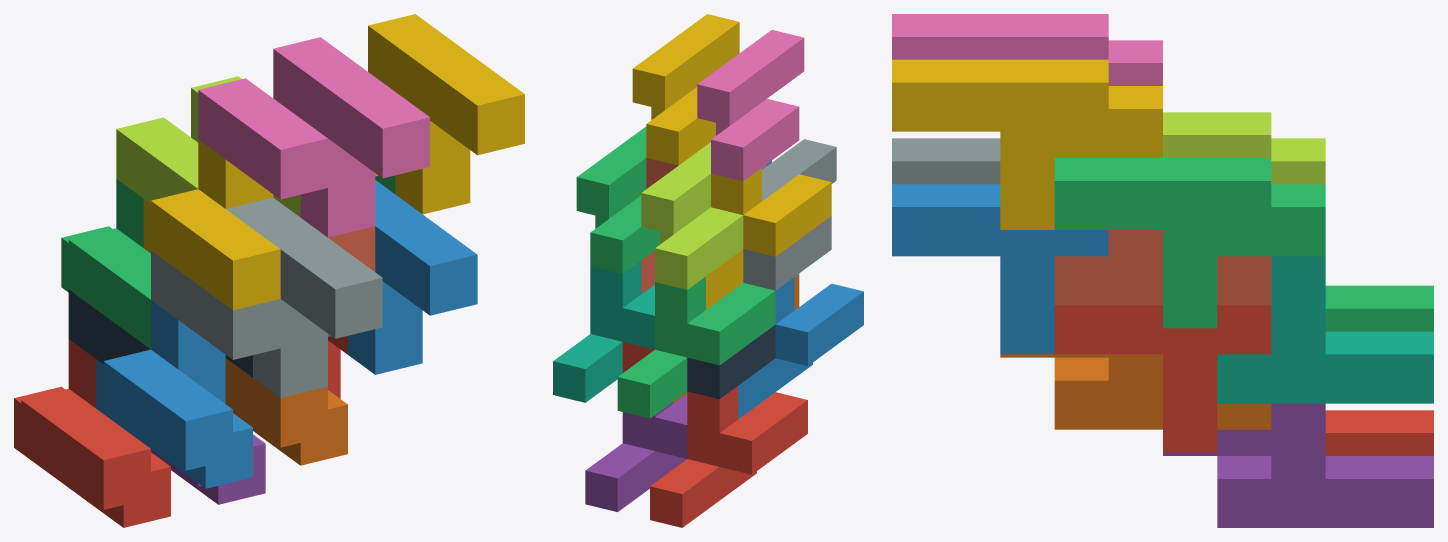
Rendered from tiling.obj.
3 renders of one model, left to right at view 1: azimuth 30°, elevation 25°; view 2: azimuth 150°, elevation 25°; view 3: azimuth 270°, elevation 25°, orthographic. The views are drawn at different scales.
Visible parts, largest first — view 1: copy_2_domain_4, copy_2_domain_2, copy_2_domain_8, copy_1_domain_2, copy_1_domain_1, copy_1_domain_4, copy_2_domain_6, copy_1_domain_3, copy_1_domain_6, copy_2_domain_3, copy_2_domain_1, copy_1_domain_5 (+2 smaller); view 2: copy_1_domain_1, copy_1_domain_3, copy_2_domain_4, copy_2_domain_8, copy_2_domain_3, copy_1_domain_7, copy_1_domain_4, copy_2_domain_7, copy_1_domain_2, copy_1_domain_5, copy_2_domain_2, copy_2_domain_1 (+2 smaller); view 3: copy_2_domain_7, copy_2_domain_8, copy_1_domain_5, copy_1_domain_7, copy_2_domain_6, copy_2_domain_5, copy_2_domain_4, copy_1_domain_6, copy_1_domain_8, copy_2_domain_3, copy_1_domain_3, copy_2_domain_2 (+1 smaller).
Part boxes in pixels (left/top/right/bottom): copy_2_domain_4: left=198, top=37, right=429, bottom=237; copy_2_domain_2: left=151, top=197, right=382, bottom=397; copy_2_domain_8: left=368, top=14, right=524, bottom=214; copy_1_domain_2: left=96, top=300, right=252, bottom=488; copy_1_domain_1: left=14, top=339, right=170, bottom=527; copy_1_domain_4: left=143, top=139, right=280, bottom=310; copy_2_domain_6: left=328, top=180, right=477, bottom=374; copy_1_domain_3: left=61, top=179, right=150, bottom=349; copy_1_domain_6: left=225, top=358, right=347, bottom=465; copy_2_domain_3: left=116, top=76, right=300, bottom=217; copy_2_domain_1: left=68, top=289, right=252, bottom=377; copy_1_domain_5: left=151, top=434, right=265, bottom=504; copy_1_domain_1: left=650, top=386, right=807, bottom=527; copy_1_domain_3: left=617, top=276, right=775, bottom=418; copy_2_domain_4: left=697, top=30, right=804, bottom=181; copy_2_domain_8: left=632, top=14, right=739, bottom=165; copy_2_domain_3: left=641, top=142, right=743, bottom=289; copy_1_domain_7: left=553, top=261, right=654, bottom=402; copy_1_domain_4: left=706, top=168, right=831, bottom=309; copy_2_domain_7: left=576, top=126, right=659, bottom=273; copy_1_domain_2: left=738, top=277, right=863, bottom=418; copy_1_domain_5: left=585, top=394, right=687, bottom=512; copy_2_domain_2: left=743, top=139, right=836, bottom=290; copy_2_domain_1: left=687, top=325, right=775, bottom=398; copy_2_domain_7: left=1054, top=158, right=1325, bottom=328; copy_2_domain_8: left=892, top=59, right=1162, bottom=229; copy_1_domain_5: left=1163, top=403, right=1433, bottom=527; copy_1_domain_7: left=1217, top=256, right=1433, bottom=403; copy_2_domain_6: left=892, top=184, right=1108, bottom=354; copy_2_domain_5: left=1054, top=305, right=1271, bottom=452; copy_2_domain_4: left=892, top=14, right=1162, bottom=85; copy_1_domain_6: left=1000, top=354, right=1271, bottom=429; copy_1_domain_8: left=1054, top=230, right=1271, bottom=305; copy_2_domain_3: left=1163, top=112, right=1325, bottom=184; copy_1_domain_3: left=1325, top=285, right=1433, bottom=331; copy_2_domain_2: left=892, top=138, right=1000, bottom=184.
Size of the model in its own units: 6 by 10 by 10.
